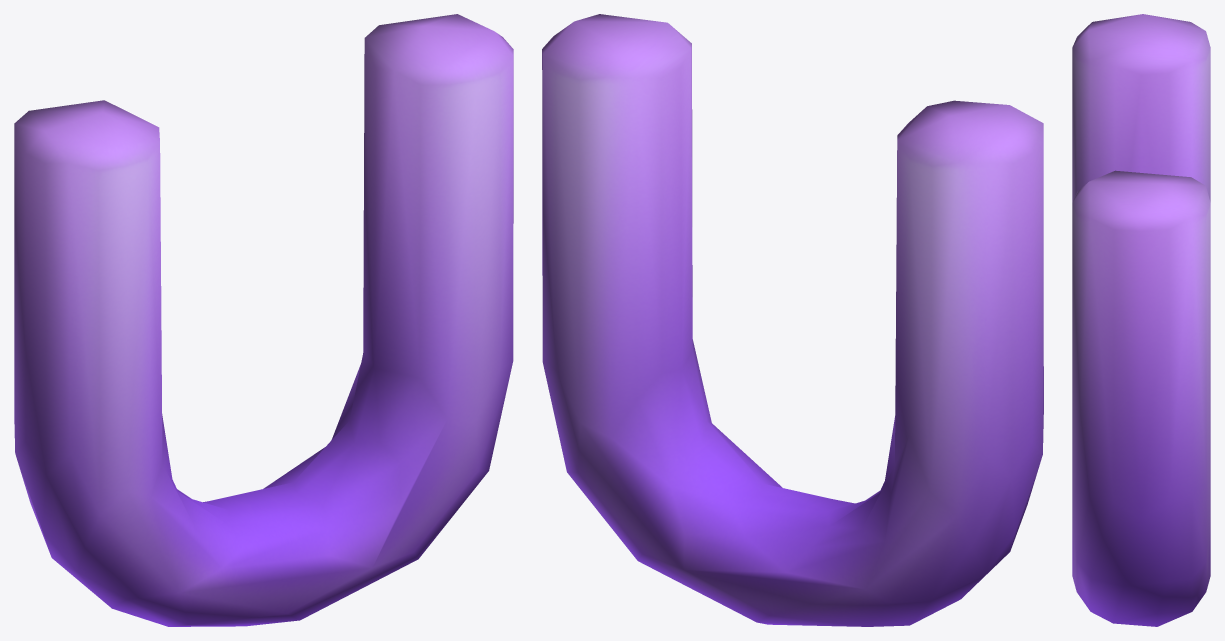
The picture shows the model from 3 angles, left to right: view 1: azimuth 30°, elevation 25°; view 2: azimuth 150°, elevation 25°; view 3: azimuth 270°, elevation 25°; orthographic projection. The views are drawn at different scales.
Parts seen in each view (by area): view 1: Processed_Mesh0_Geometry; view 2: Processed_Mesh0_Geometry; view 3: Processed_Mesh0_Geometry.
Part boxes in pixels (left/top/right/bottom): Processed_Mesh0_Geometry: left=14, top=14, right=513, bottom=626; Processed_Mesh0_Geometry: left=542, top=14, right=1043, bottom=626; Processed_Mesh0_Geometry: left=1072, top=14, right=1210, bottom=626.
Size of what is drawn, in the model's own units: 0.077 by 0.0828 by 0.0214.
Materials: 1 (1 with a texture image).
